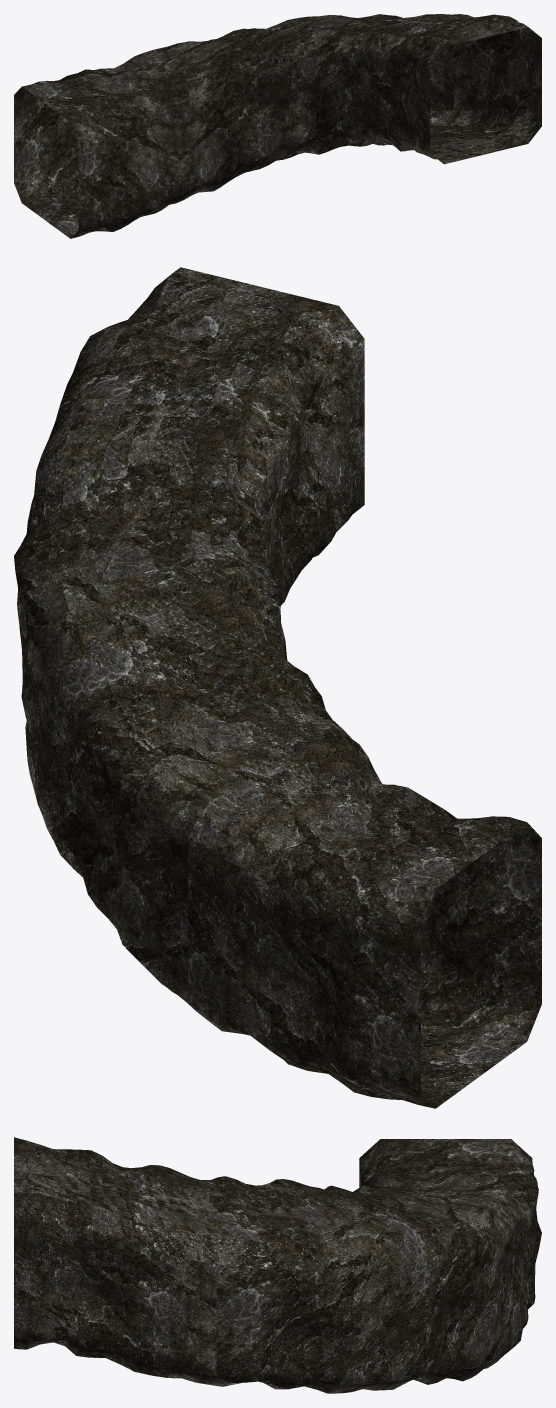
The model's file is Cave_070.fbx.
3 views of the same model, one above another, from view 1: azimuth 30°, elevation 25°; view 2: azimuth 150°, elevation 25°; view 3: azimuth 270°, elevation 25° (orthographic). The views are drawn at different scales.
Parts seen in each view (by area): view 1: Cave.070; view 2: Cave.070; view 3: Cave.070.
Boxes of the visible parts, x1,y1,x2,y2 form: Cave.070: (14, 14, 541, 238); Cave.070: (14, 267, 541, 1108); Cave.070: (14, 1137, 541, 1393).
Bounding box in the file's own units: 913 × 608 × 917.
